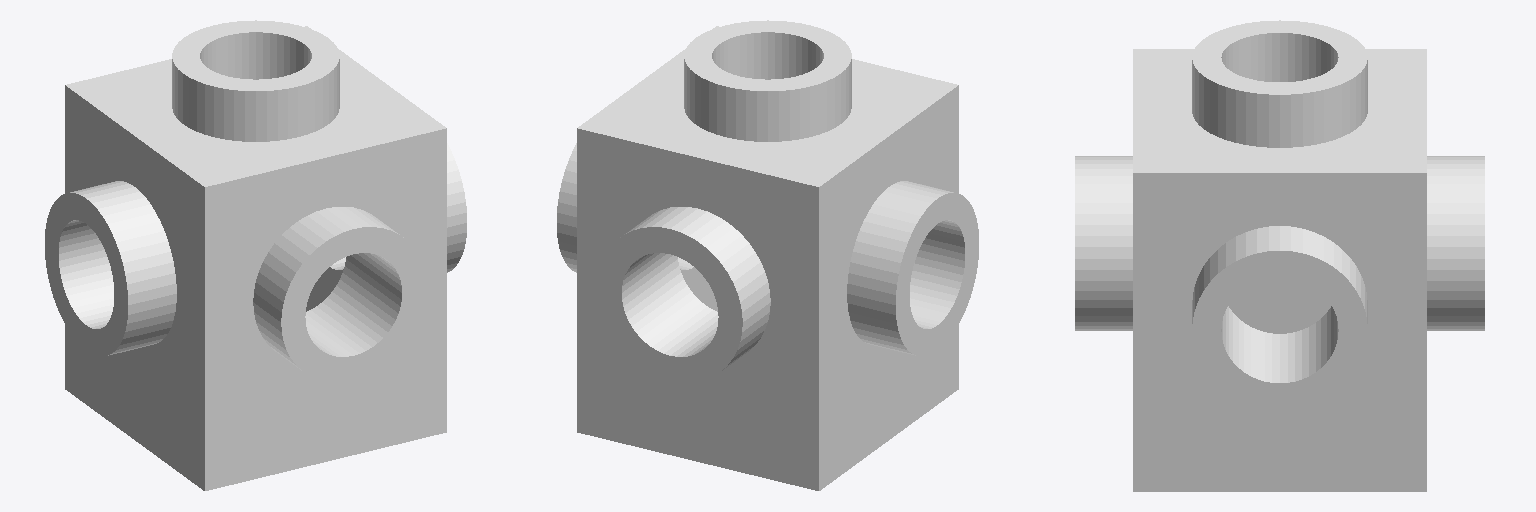
URDF robot description (4733__white):
<?xml version="1.0"?>
<robot name="4733__white">
  <link name="4733__white">
    <inertial>
      <origin xyz="0.000000 0.000000 -0.004345" rpy="0 0 0"/>
      <mass value="0.001020"/>
      <inertia ixx="1.590095311e-08" ixy="1.413638742e-26" ixz="8.118785030e-26" iyy="1.590095311e-08" iyz="-4.151813770e-25" izz="1.515699266e-08"/>
    </inertial>
    <visual>
      <geometry>
        <mesh filename="../meshes/visual/4733.obj" scale="1 1 1"/>
      </geometry>
      <material name="4733__white_color">
        <color rgba="0.950 0.950 0.950 1.000"/>
      </material>
    </visual>
    <collision>
      <geometry>
        <mesh filename="../meshes/collision/4733_hull.obj" scale="1 1 1"/>
      </geometry>
    </collision>
  </link>
</robot>

--- Render facts (derived) ---
The picture shows the robot from 3 angles, left to right: view 1: azimuth 30°, elevation 25°; view 2: azimuth 150°, elevation 25°; view 3: azimuth 270°, elevation 25°; orthographic projection.
Robot: 4733__white — 1 links, 0 joints (none); root link 4733__white; default pose: all joints at 0.
Visible links, largest first — view 1: 4733__white; view 2: 4733__white; view 3: 4733__white.
Link boxes in pixels (bbox=[...]): 4733__white: bbox=[45, 20, 466, 490]; 4733__white: bbox=[557, 20, 978, 490]; 4733__white: bbox=[1075, 20, 1484, 491].
Bounding box of the posed robot: 0.0112 × 0.0112 × 0.0112 m (x, y, z).
Meshes: 1 distinct files referenced, 1 mesh visuals loaded (1 OBJ).
